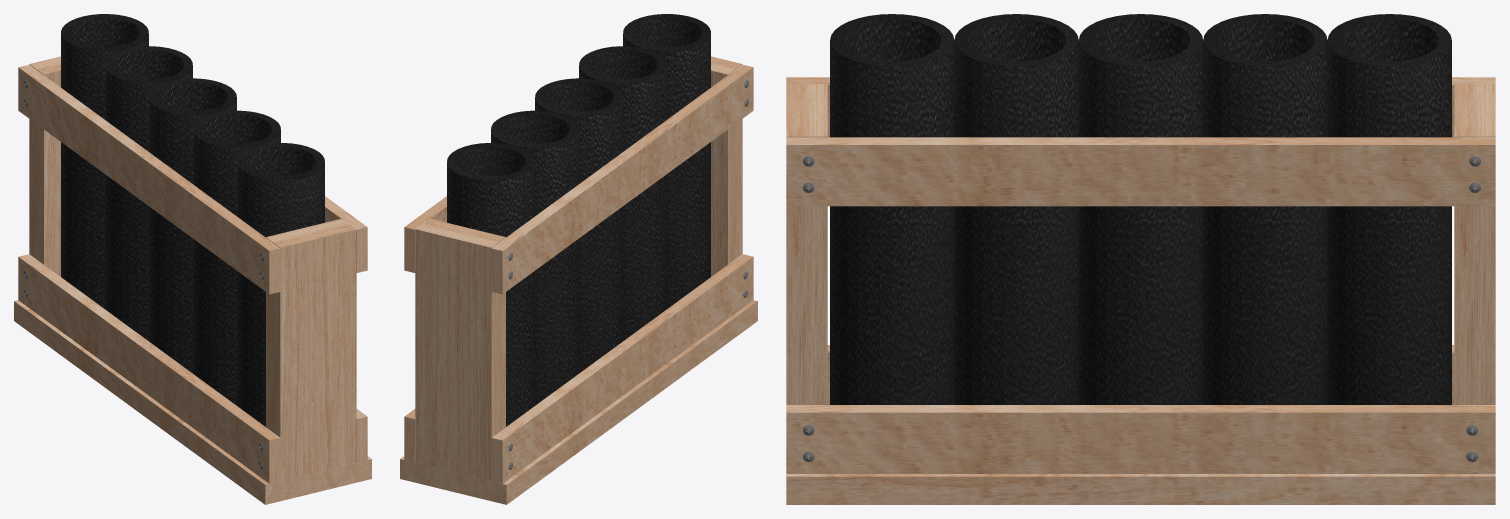
The model's file is BlackHDPE6inch6rackPart.fbx.
The picture shows the model from 3 angles, left to right: view 1: azimuth 30°, elevation 25°; view 2: azimuth 150°, elevation 25°; view 3: azimuth 270°, elevation 25°; orthographic projection. The views are drawn at different scales.
Visible parts, largest first — view 1: Cube.002, Cube.003, Cube.004, Cylinder.004, Cylinder, Cylinder.003, Cylinder.001, Cylinder.002, Cube, Cube.001, Cube.006, Cube.005; view 2: Cube.001, Cube.004, Cube.003, Cylinder.002, Cylinder, Cylinder.001, Cylinder.003, Cylinder.004, Cube, Cube.002, Cube.006, Cube.005; view 3: Cube.006, Cube.005, Cylinder, Cylinder.001, Cylinder.003, Cylinder.002, Cylinder.004, Cube, Cube.001, Cube.002, Cube.003.
Part boxes in pixels (bbox=[...]): Cube.002: bbox=[266, 218, 356, 480]; Cube.003: bbox=[18, 64, 280, 294]; Cube.004: bbox=[18, 254, 280, 483]; Cylinder.004: bbox=[61, 14, 148, 308]; Cylinder: bbox=[149, 78, 236, 373]; Cylinder.003: bbox=[105, 46, 192, 340]; Cylinder.001: bbox=[193, 110, 280, 405]; Cylinder.002: bbox=[237, 143, 324, 426]; Cube: bbox=[14, 300, 371, 504]; Cube.001: bbox=[29, 56, 60, 276]; Cube.006: bbox=[325, 196, 367, 273]; Cube.005: bbox=[356, 409, 367, 462]; Cube.001: bbox=[415, 218, 505, 480]; Cube.004: bbox=[491, 254, 753, 483]; Cube.003: bbox=[491, 64, 753, 294]; Cylinder.002: bbox=[623, 14, 710, 308]; Cylinder: bbox=[535, 78, 622, 373]; Cylinder.001: bbox=[579, 46, 666, 340]; Cylinder.003: bbox=[491, 110, 578, 405]; Cylinder.004: bbox=[447, 143, 534, 426]; Cube: bbox=[400, 300, 757, 504]; Cube.002: bbox=[711, 56, 742, 276]; Cube.006: bbox=[404, 196, 446, 273]; Cube.005: bbox=[404, 409, 415, 462]; Cube.006: bbox=[786, 137, 1495, 206]; Cube.005: bbox=[786, 405, 1495, 473]; Cylinder: bbox=[1078, 14, 1203, 404]; Cylinder.001: bbox=[954, 14, 1078, 404]; Cylinder.003: bbox=[1203, 14, 1327, 404]; Cylinder.002: bbox=[830, 14, 954, 404]; Cylinder.004: bbox=[1327, 14, 1451, 404]; Cube: bbox=[786, 474, 1495, 504]; Cube.001: bbox=[1454, 84, 1495, 404]; Cube.002: bbox=[786, 84, 827, 404]; Cube.003: bbox=[786, 77, 1495, 137].
Size of the model in its own units: 0.3492 by 0.9493 by 1.43.
Materials: 23 (7 with a texture image).
